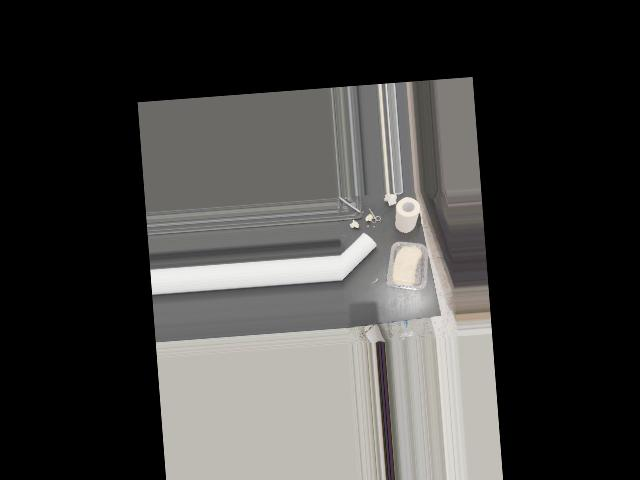cheese: (385, 239, 427, 292)
